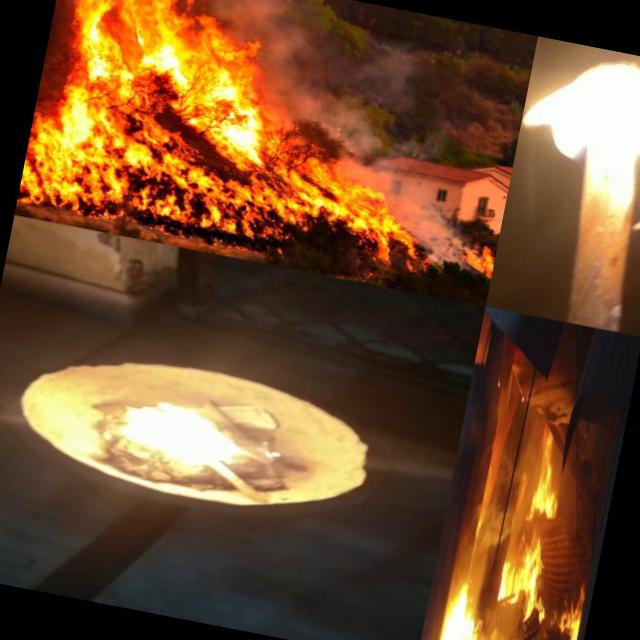fire: (16, 0, 404, 268), (509, 36, 640, 214), (97, 389, 270, 487), (495, 526, 557, 615), (433, 571, 490, 640), (553, 561, 594, 640), (528, 444, 568, 521)
